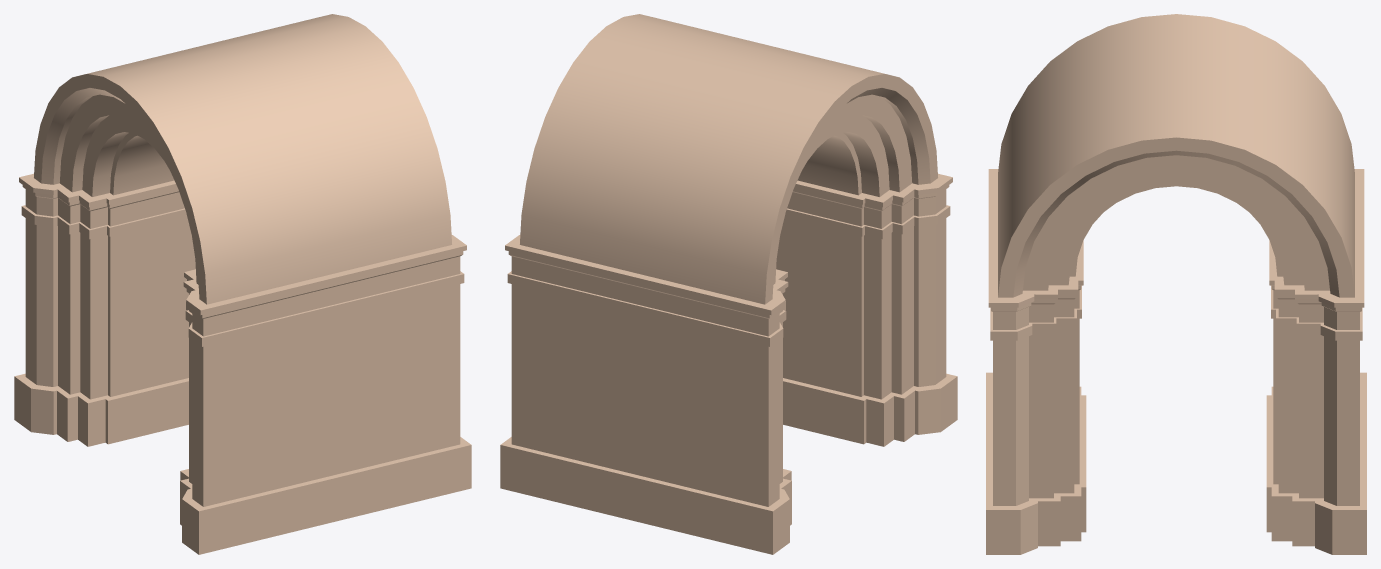
Rendered from BC_DoorFrame_C.fbx.
3 views of the same model, side by side, from view 1: azimuth 30°, elevation 25°; view 2: azimuth 150°, elevation 25°; view 3: azimuth 270°, elevation 25° (orthographic). The views are drawn at different scales.
Parts seen in each view (by area): view 1: BC_DoorFrame_C; view 2: BC_DoorFrame_C; view 3: BC_DoorFrame_C.
Part boxes in pixels (box(x1,y1,x2,y2)): BC_DoorFrame_C: box(14, 14, 471, 554); BC_DoorFrame_C: box(500, 14, 957, 554); BC_DoorFrame_C: box(986, 14, 1366, 554).
Bounding box in the file's own units: 713 × 994 × 836.
